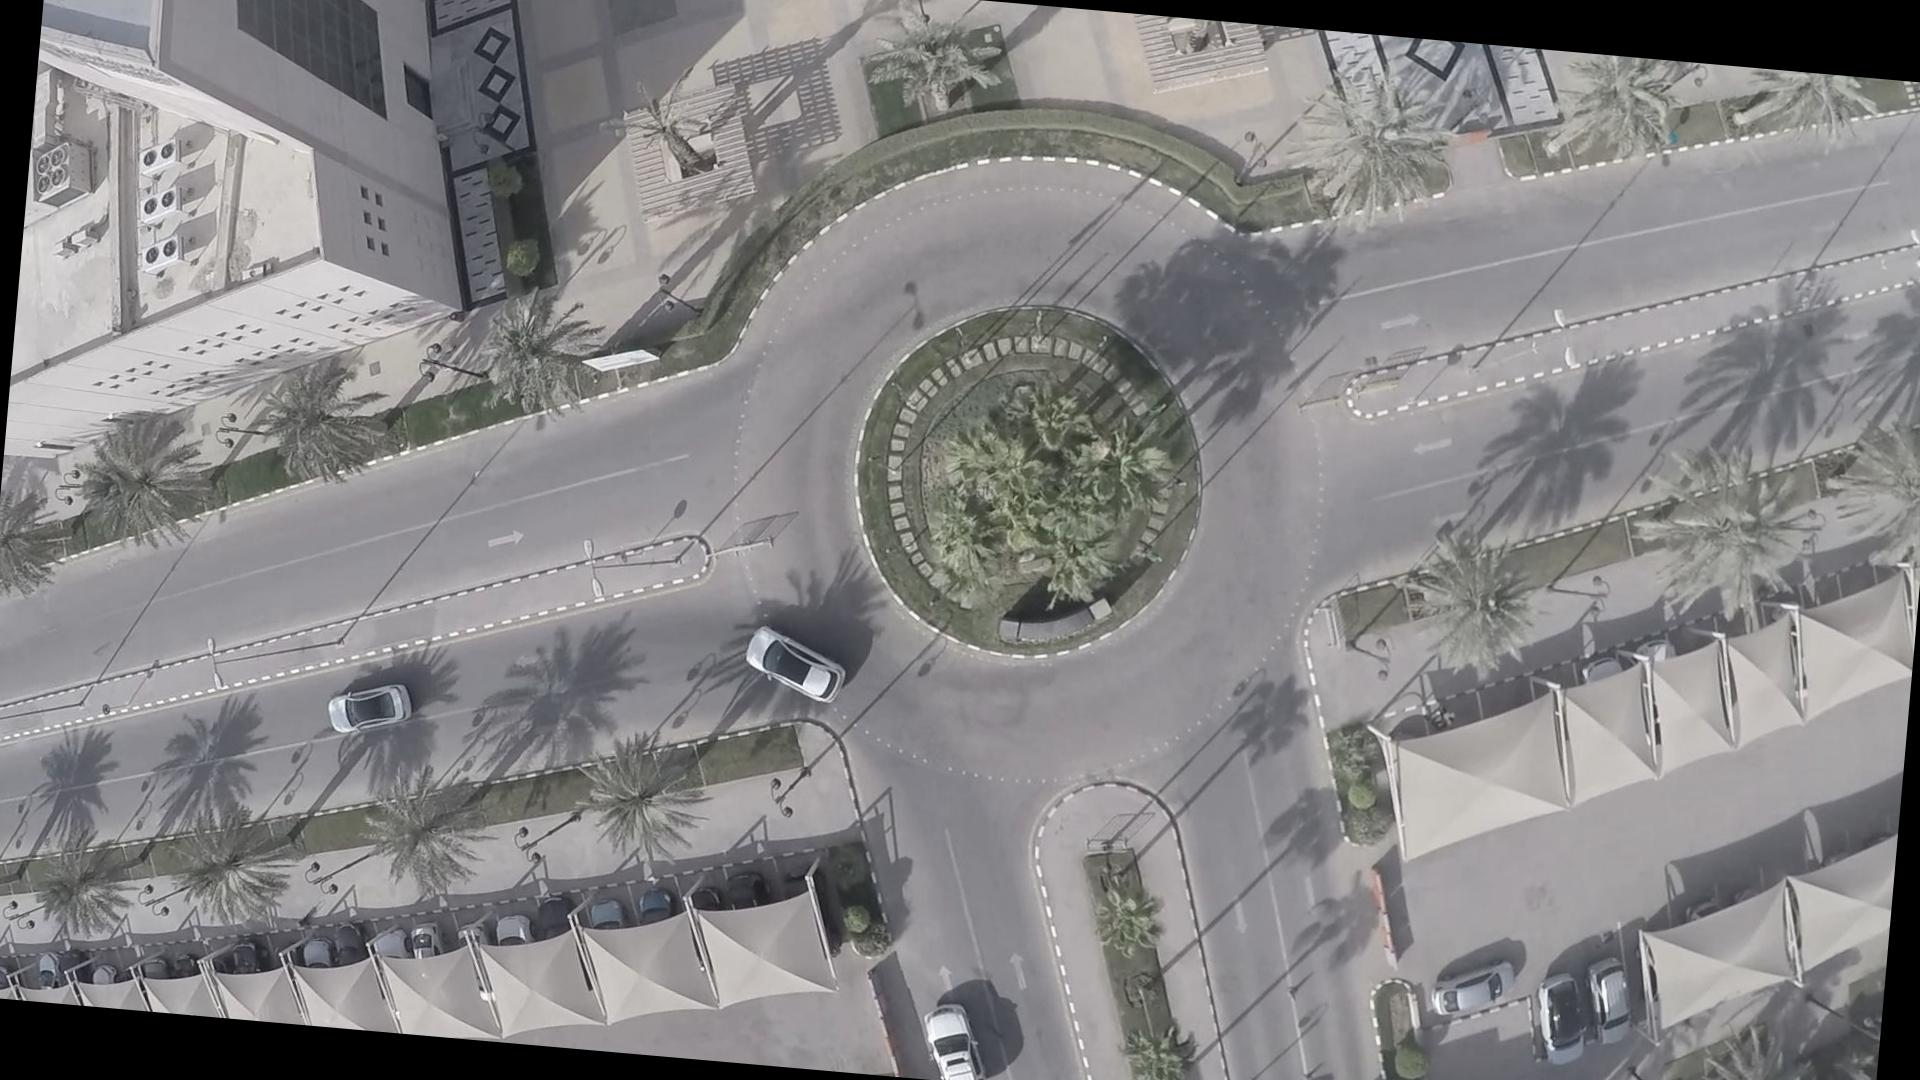vehicle: (737, 615, 841, 705), (313, 669, 418, 746)
